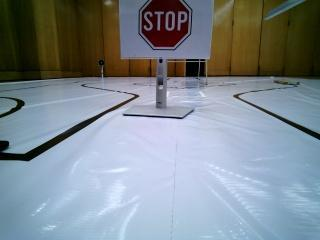stop: (120, 1, 210, 57)
